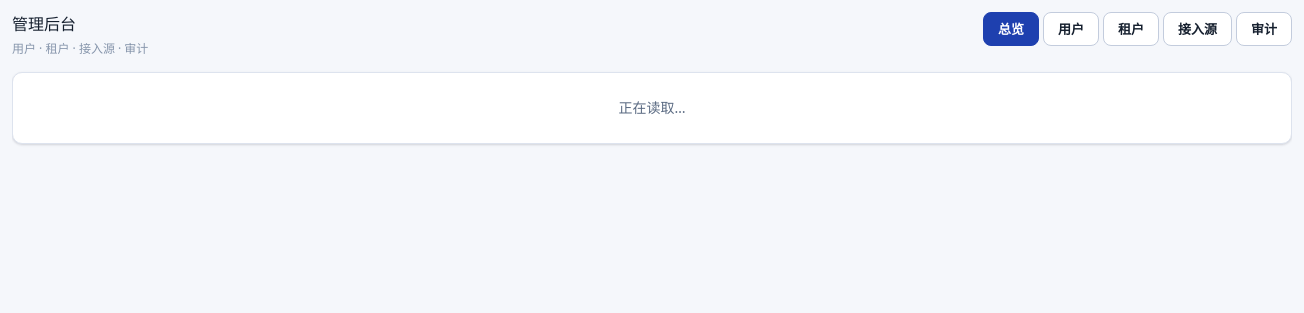
Test: 管理后台页 › 接入源列表要显示通道类型与上次收到时间
Click the button "接入源": point(1198, 29) [1163, 12, 1232, 46]
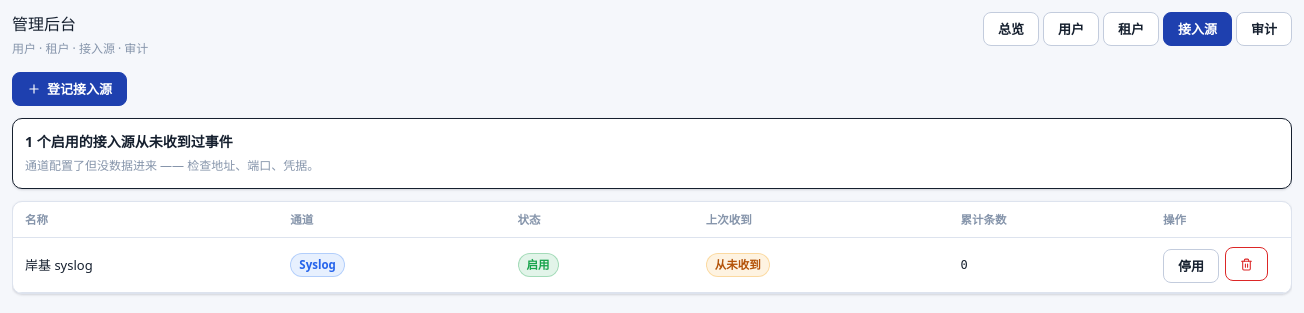
Now the text "岸基 syslog" is shown, box [13, 238, 278, 293]
Now the text "Syslog" is shown, box [290, 253, 345, 277]
Now the text "从未收到" is shown, box [706, 253, 770, 277]
